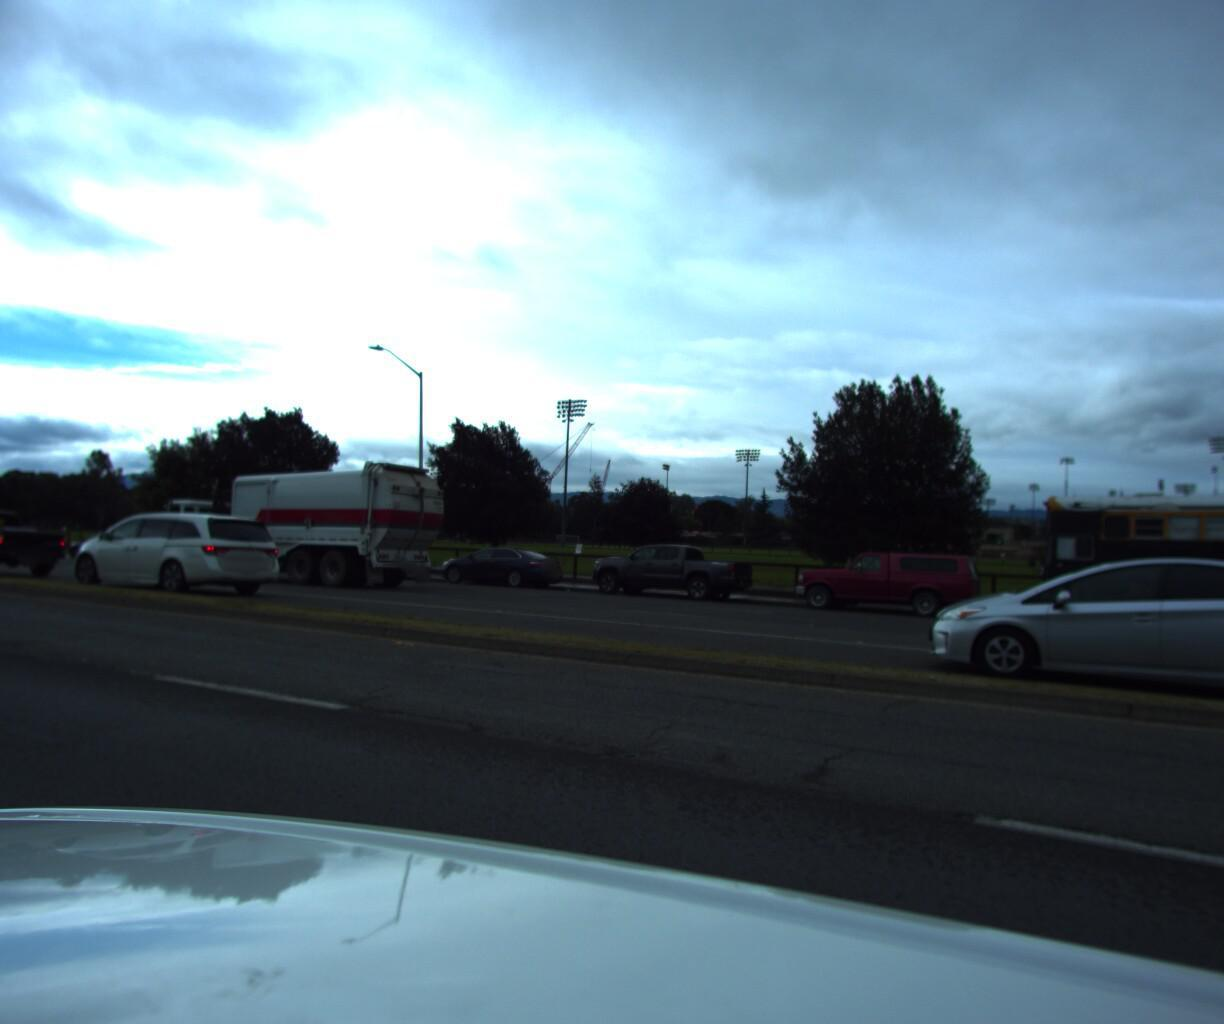bus: (1027, 471, 1224, 676)
car: (921, 542, 1224, 729), (60, 504, 293, 594), (781, 542, 983, 624), (578, 536, 761, 602), (425, 539, 570, 586), (0, 502, 74, 576)
truck: (142, 451, 462, 594)
